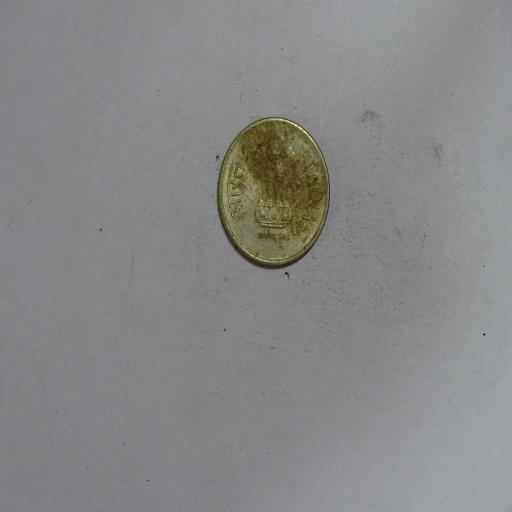rupee5: (216, 117, 330, 268)
